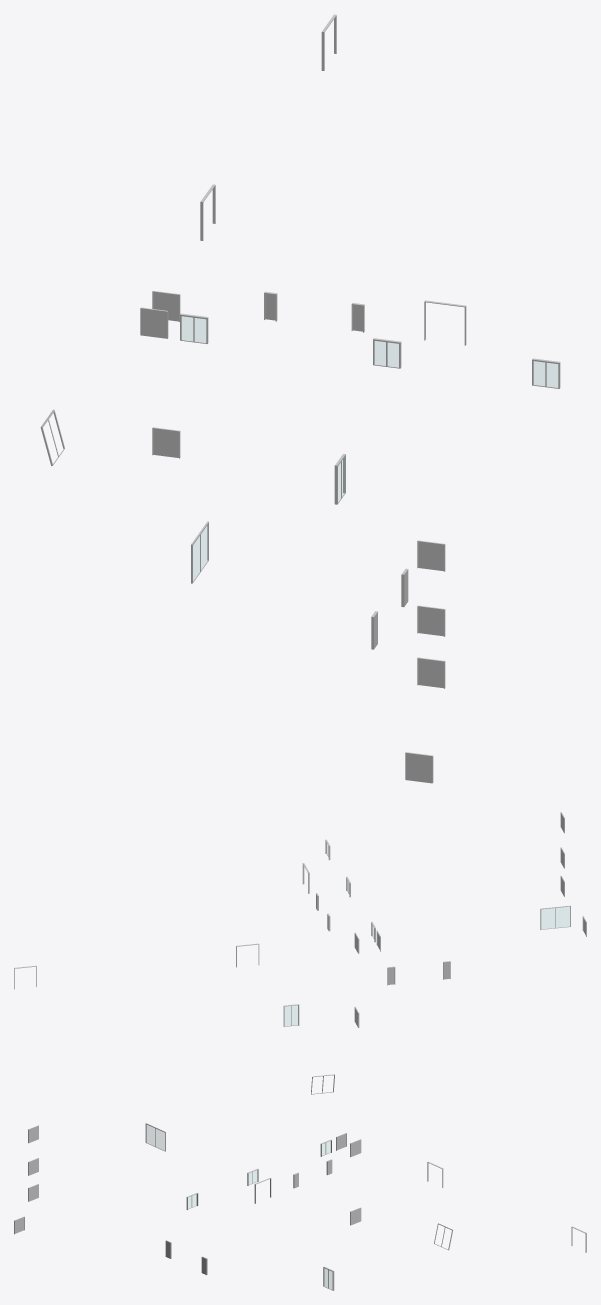
Rendered from DOORS.fbx.
3 views of the same model, one above another, from view 1: azimuth 30°, elevation 25°; view 2: azimuth 150°, elevation 25°; view 3: azimuth 270°, elevation 25° (orthographic). The views are drawn at different scales.
Visible parts, largest first — view 1: Doors, Glass; view 2: Doors, Glass; view 3: Doors, Glass.
Boxes of the visible parts, box(x1,y1,x2,y2) form: Doors: box(40, 14, 560, 783); Glass: box(182, 316, 557, 580); Doors: box(14, 812, 586, 1094); Glass: box(285, 844, 569, 1025); Doors: box(14, 1123, 586, 1290); Glass: box(146, 1125, 332, 1289).
Size of the model in its own units: 47.17 by 18.01 by 79.96.
